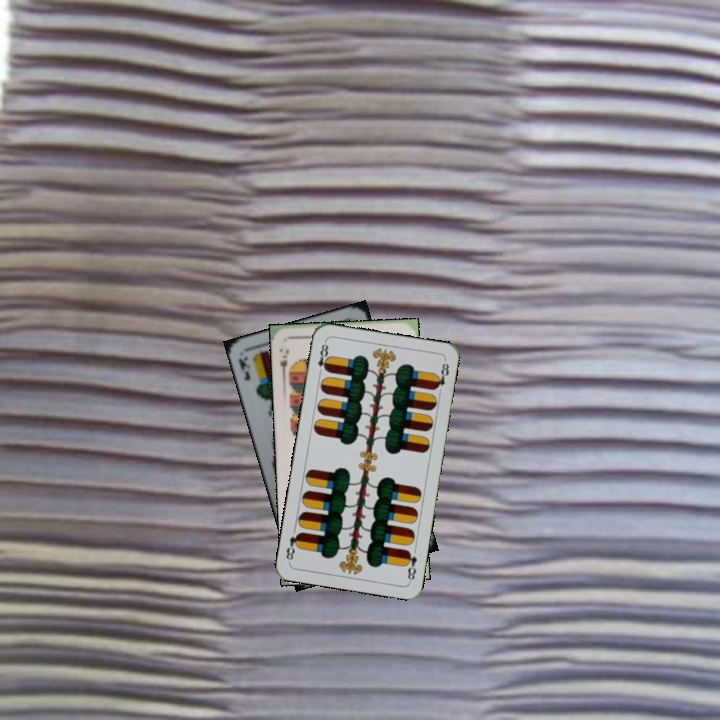E8: (313, 338, 332, 378), (401, 546, 420, 584)
EK: (234, 352, 253, 383)
S9: (276, 344, 294, 380)
